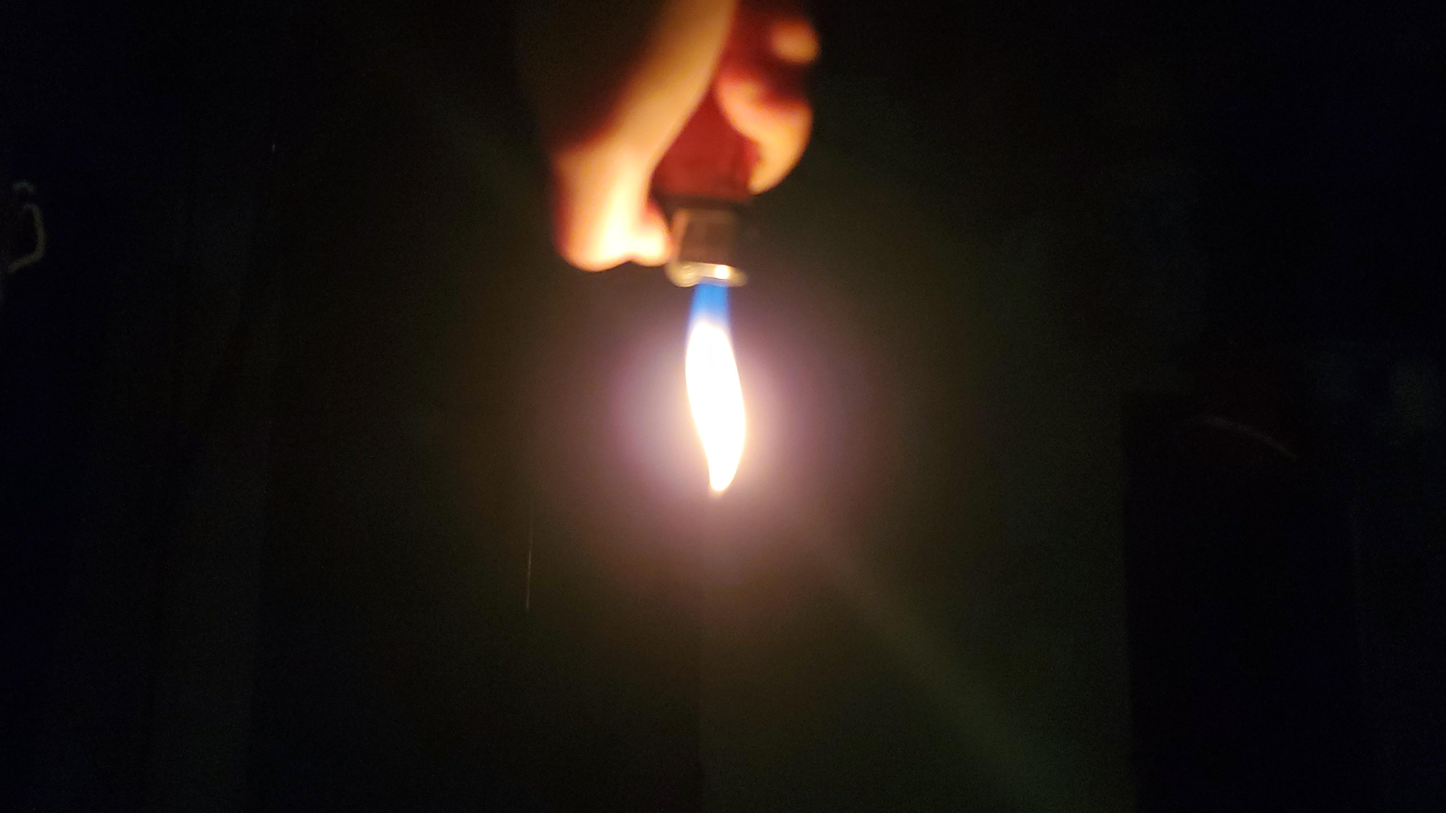fire: (680, 289, 786, 573)
